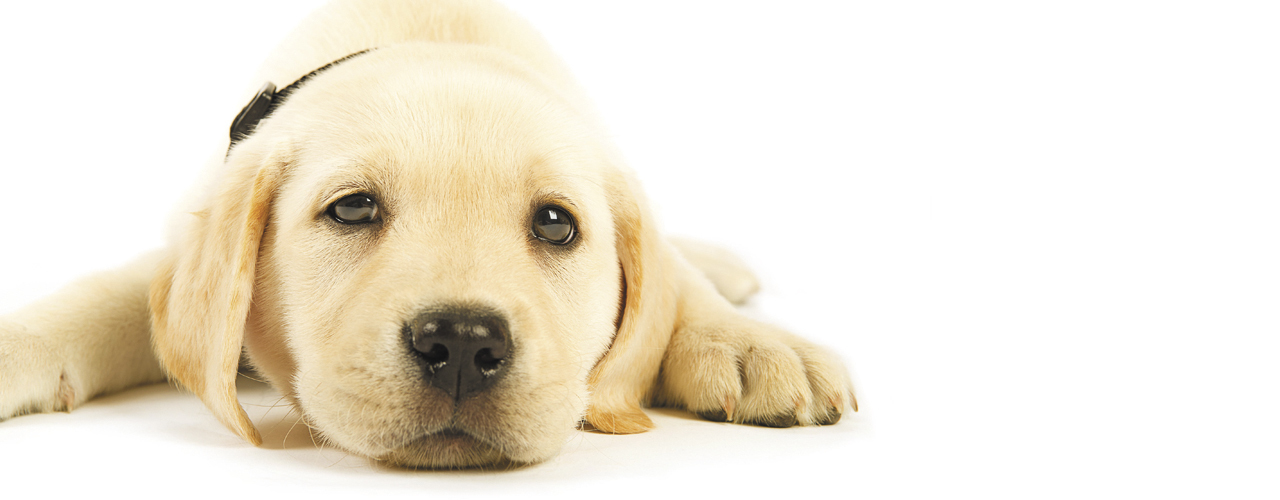dog: (25, 30, 855, 457)
